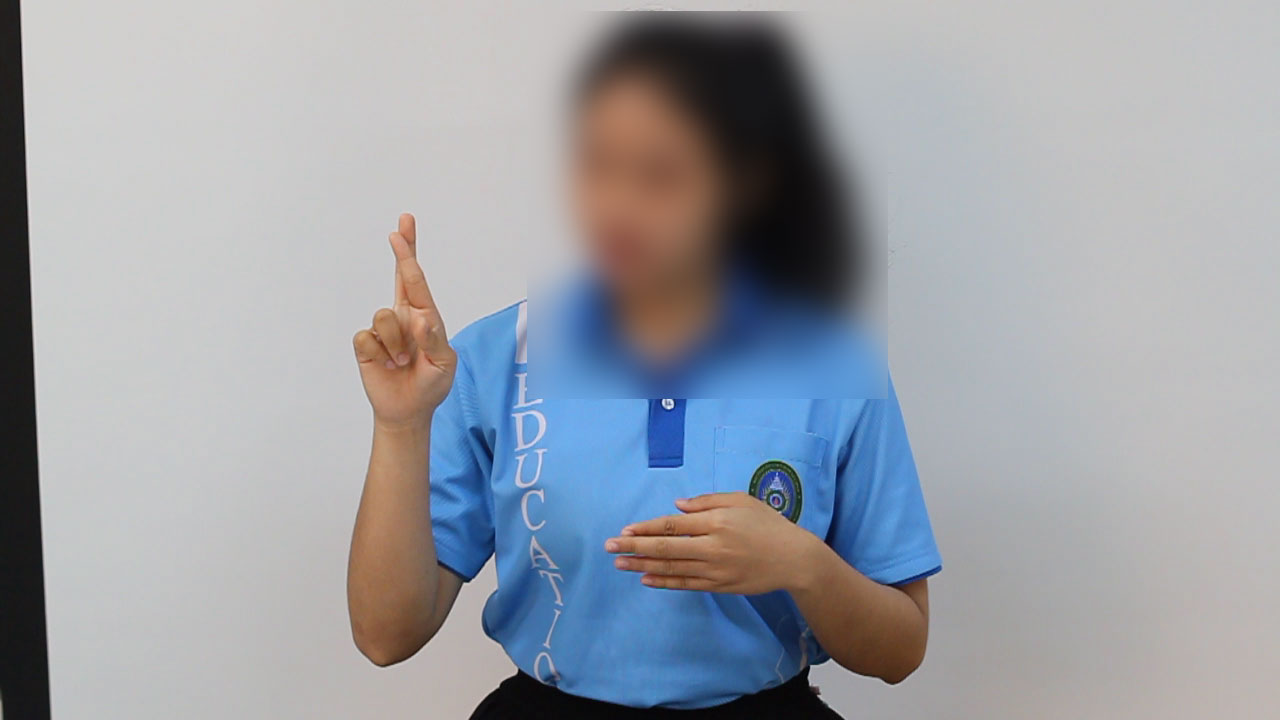rao: (335, 206, 478, 439)
